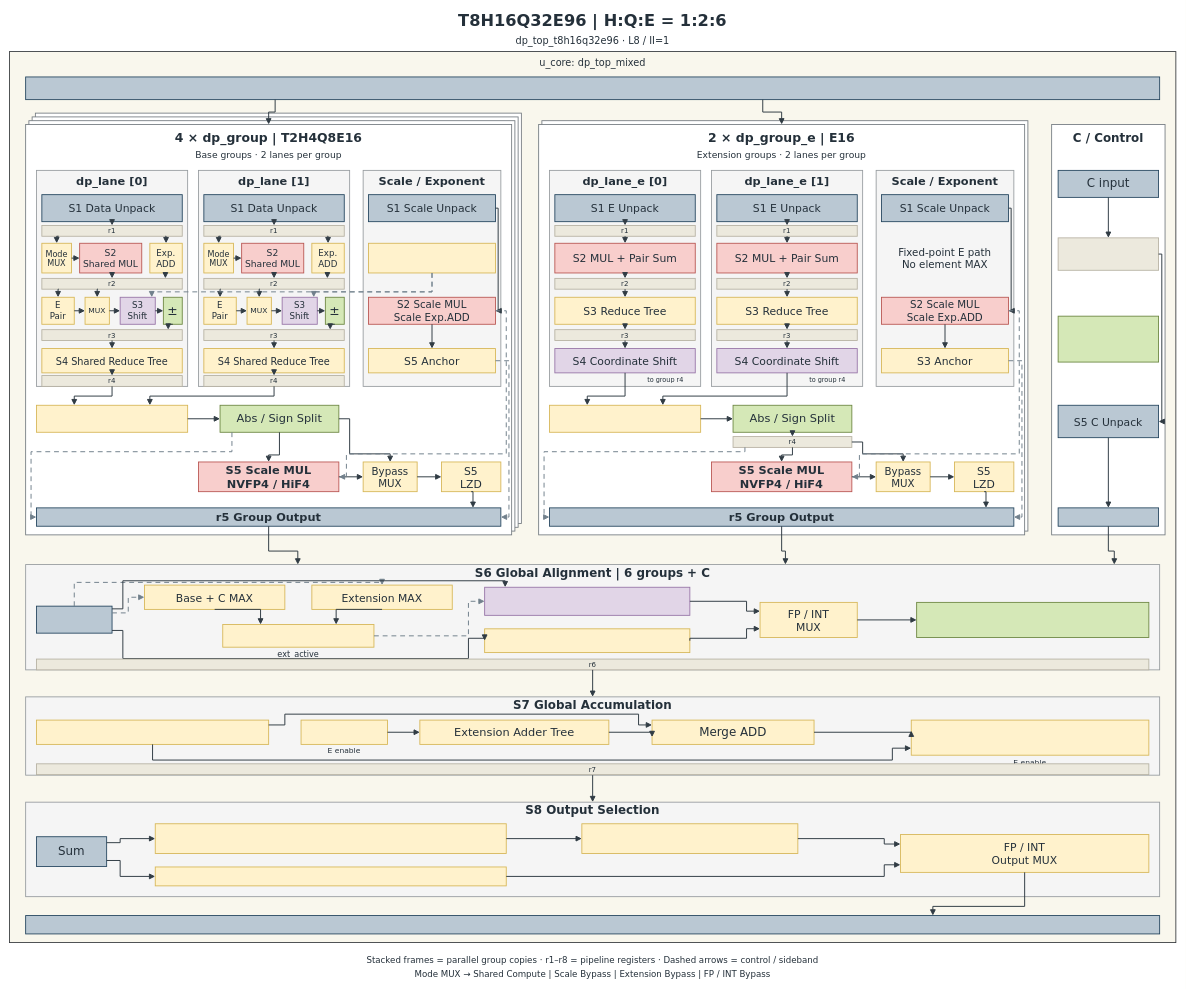
The diagram is 1186 pixels wide and 989 high, and some of its shapes have lost their labels. Here are the shapes that lost their labels. From the top down, the box of each, then its label:
(25, 76, 1160, 100): A / B · Datatype · Scale · HiF4 metadata
(368, 243, 496, 273): S2 Group MAX
(1057, 237, 1159, 270): S1–S4 C Delay
(1057, 315, 1159, 362): Precision Gating Extension Mask
(36, 405, 188, 432): S5 Group Adder
(549, 405, 701, 432): S4 Group Adder
(1057, 507, 1159, 526): r5 C Output
(36, 605, 112, 633): Source Mask / Pack
(484, 587, 690, 615): FP Bidirectional Shift
(916, 602, 1149, 638): Sign Restore
(222, 624, 374, 647): MAX / Base Bypass
(484, 628, 690, 653): INT Placement / Base+C
(36, 719, 269, 745): Base Tree (4 groups + C)
(300, 719, 388, 745): Ext / 0 MUX
(911, 719, 1149, 755): Merged / Base MUX
(155, 823, 506, 854): FP Normalize / Round
(581, 823, 798, 854): Special MUX
(155, 866, 506, 886): INT32 Wrap
(25, 915, 1160, 934): r8 D / out_valid / out_last
